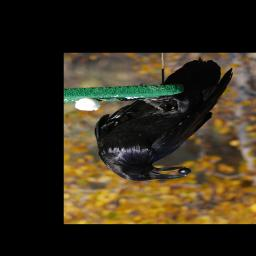Crow: (93, 58, 233, 181)
